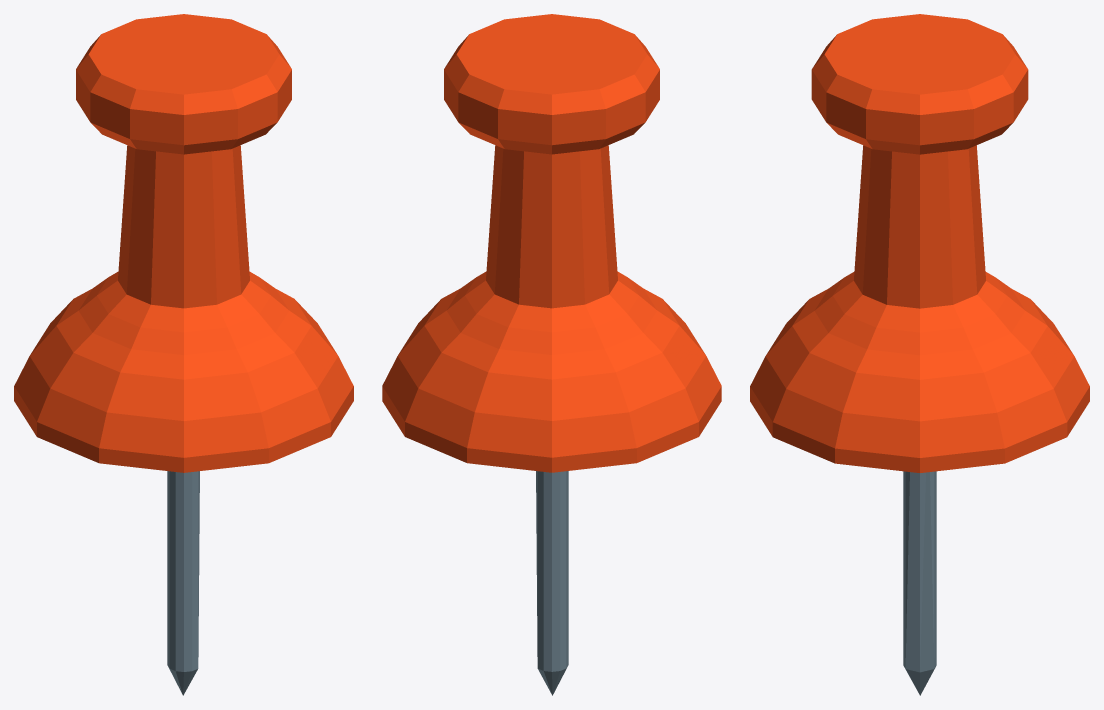
Rendered from Thumbtack-D83HLItu.glb.
The picture shows the model from 3 angles, left to right: view 1: azimuth 30°, elevation 25°; view 2: azimuth 150°, elevation 25°; view 3: azimuth 270°, elevation 25°; orthographic projection.
Visible parts, largest first — view 1: group1686366653; view 2: group1686366653; view 3: group1686366653.
Part boxes in pixels (x1,y1,x2,y2): group1686366653: (14, 14, 353, 695); group1686366653: (382, 14, 721, 695); group1686366653: (750, 14, 1089, 695).
Size of the model in its own units: 0.2041 by 0.4254 by 0.2041.
